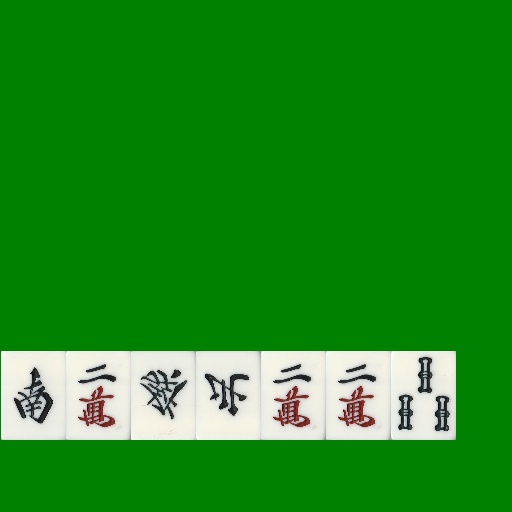2m: (66, 351, 131, 440), (261, 351, 326, 440), (326, 351, 391, 440)
3s: (391, 351, 456, 440)
hatsu: (131, 351, 196, 440)
north: (196, 351, 261, 440)
south: (1, 351, 66, 440)
